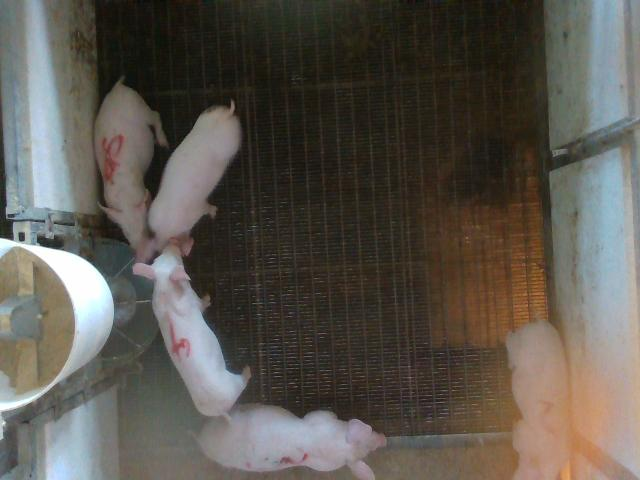pig-2: (506, 320, 569, 478)
pig-3: (196, 405, 386, 479)
pig-4: (134, 244, 250, 419)
pig-5: (94, 76, 168, 249)
